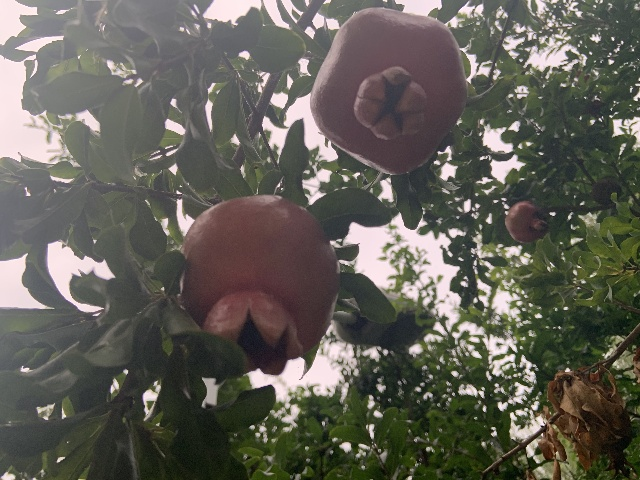ripe: (177, 195, 340, 376), (310, 7, 468, 176), (504, 200, 547, 243)
